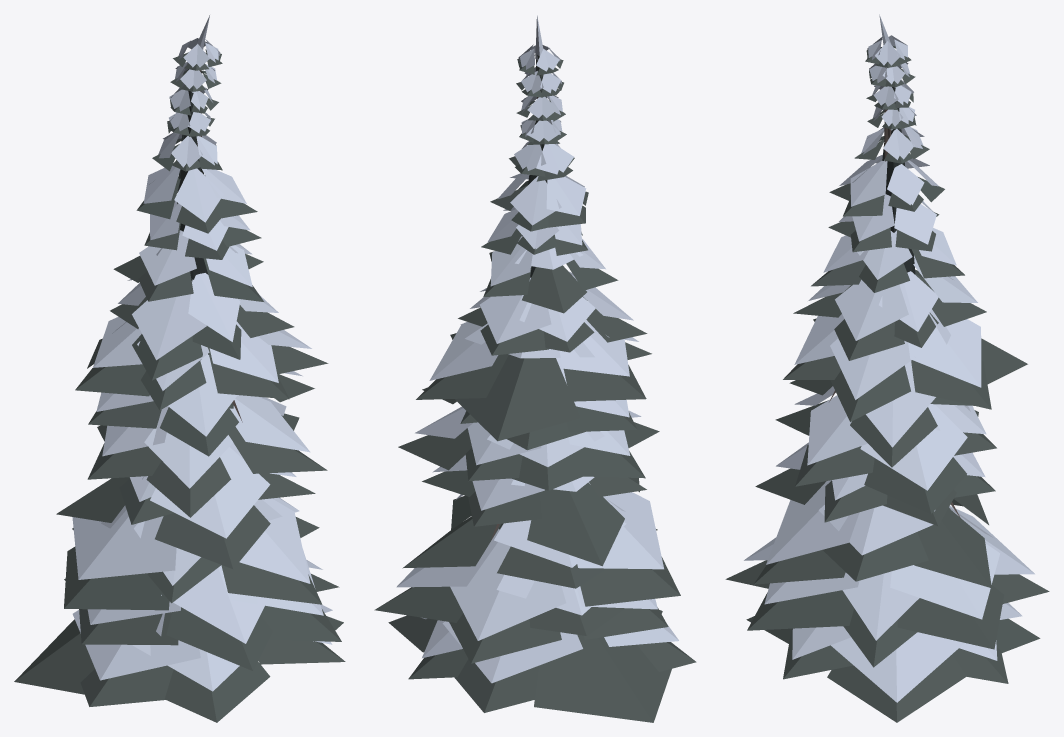
Rendered from pine_far.glb.
3 views of the same model, side by side, from view 1: azimuth 30°, elevation 25°; view 2: azimuth 150°, elevation 25°; view 3: azimuth 270°, elevation 25° (orthographic). The views are drawn at different scales.
Visible parts, largest first — view 1: PineFar; view 2: PineFar; view 3: PineFar.
Boxes of the visible parts, x1,y1,x2,y2 form: PineFar: (14, 15, 345, 722); PineFar: (374, 15, 696, 722); PineFar: (725, 14, 1049, 722).
Size of the model in its own units: 3.05 by 6.51 by 2.9.
